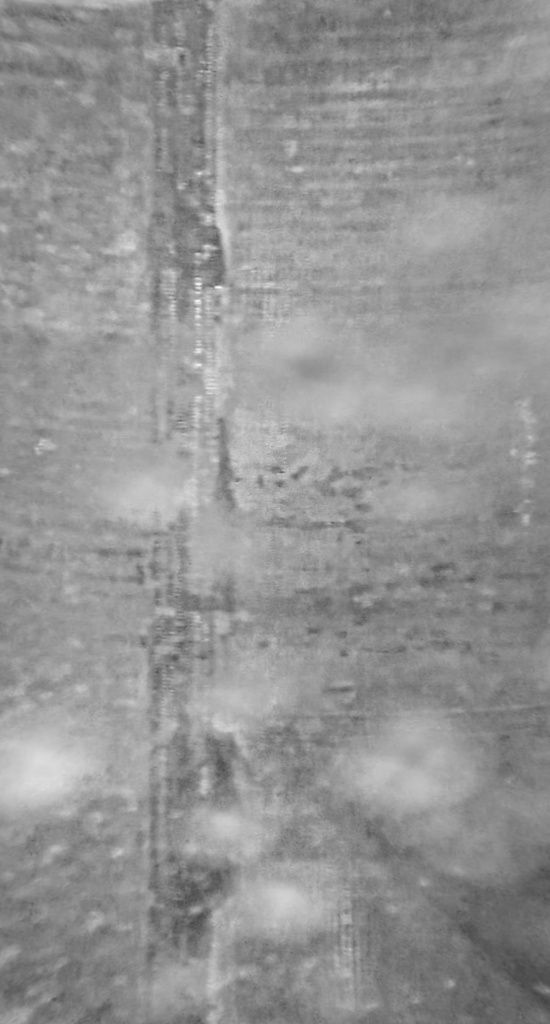splice: (144, 1, 241, 1024)
